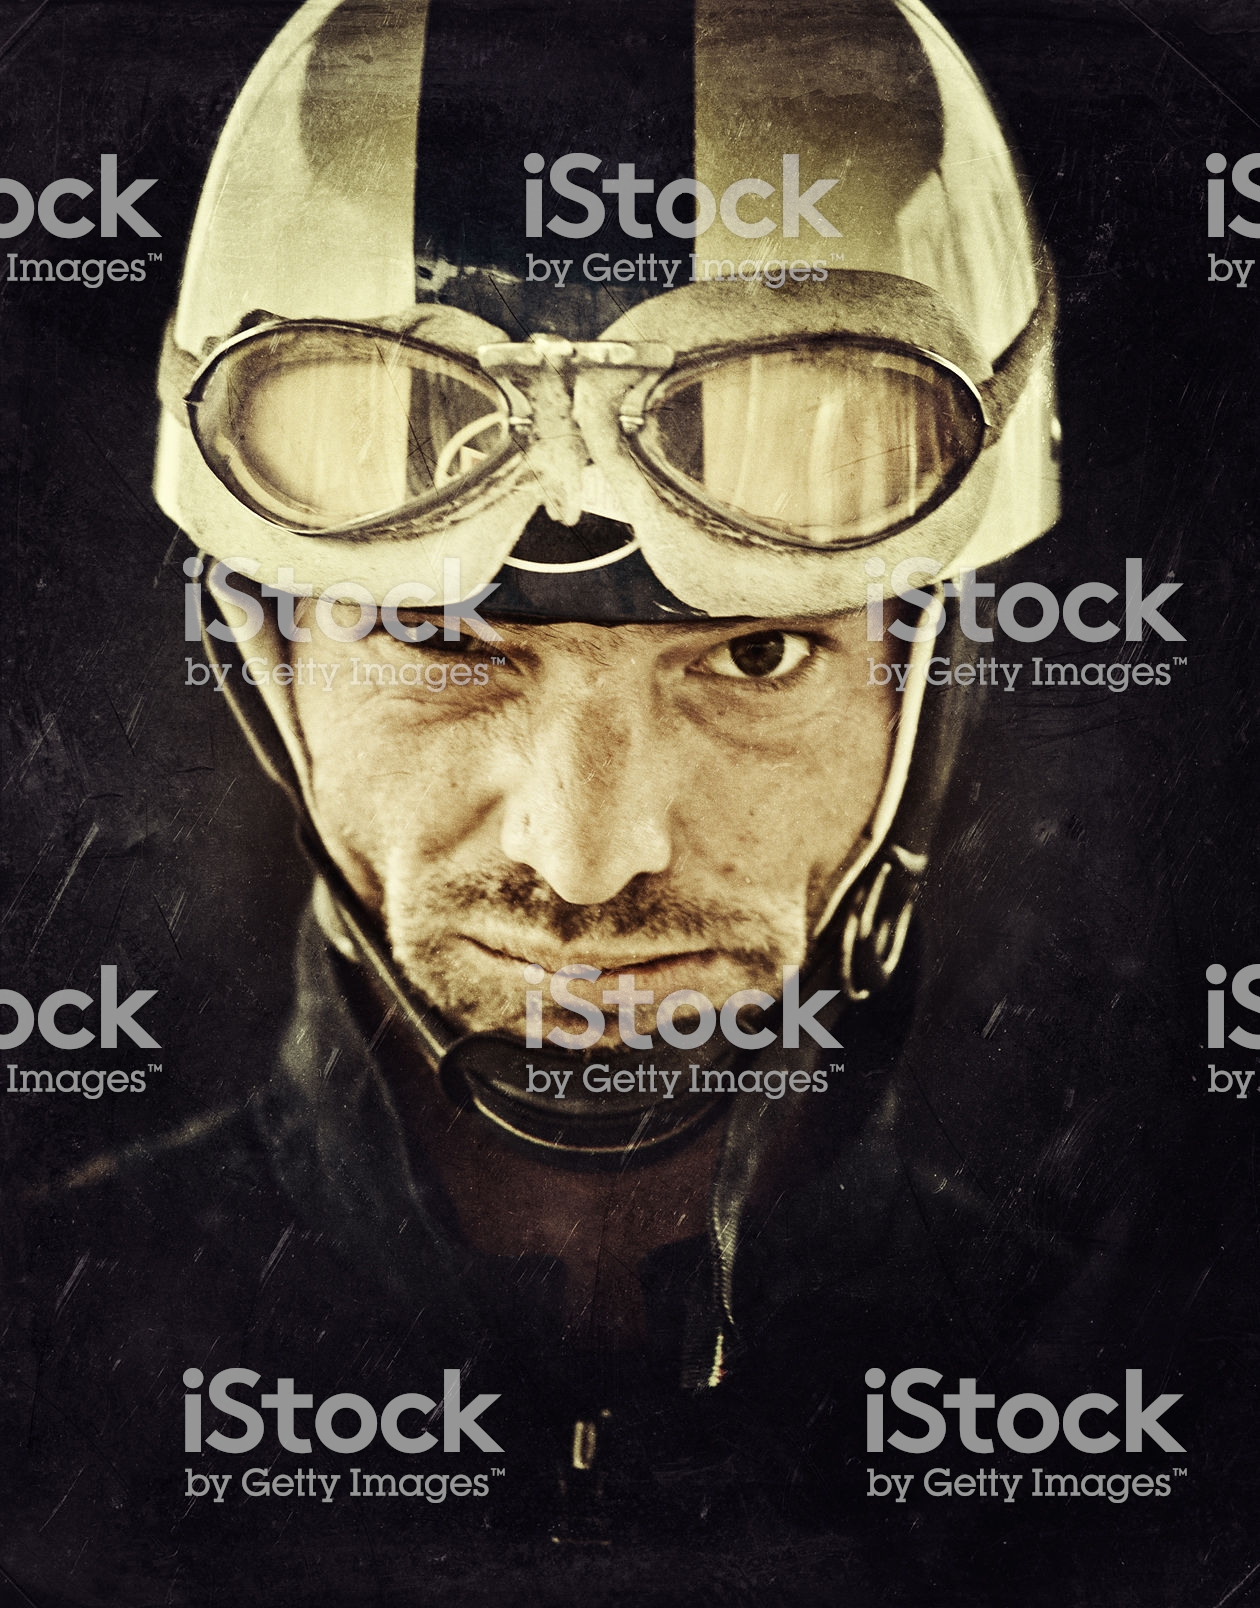helmet: (151, 27, 1065, 610)
